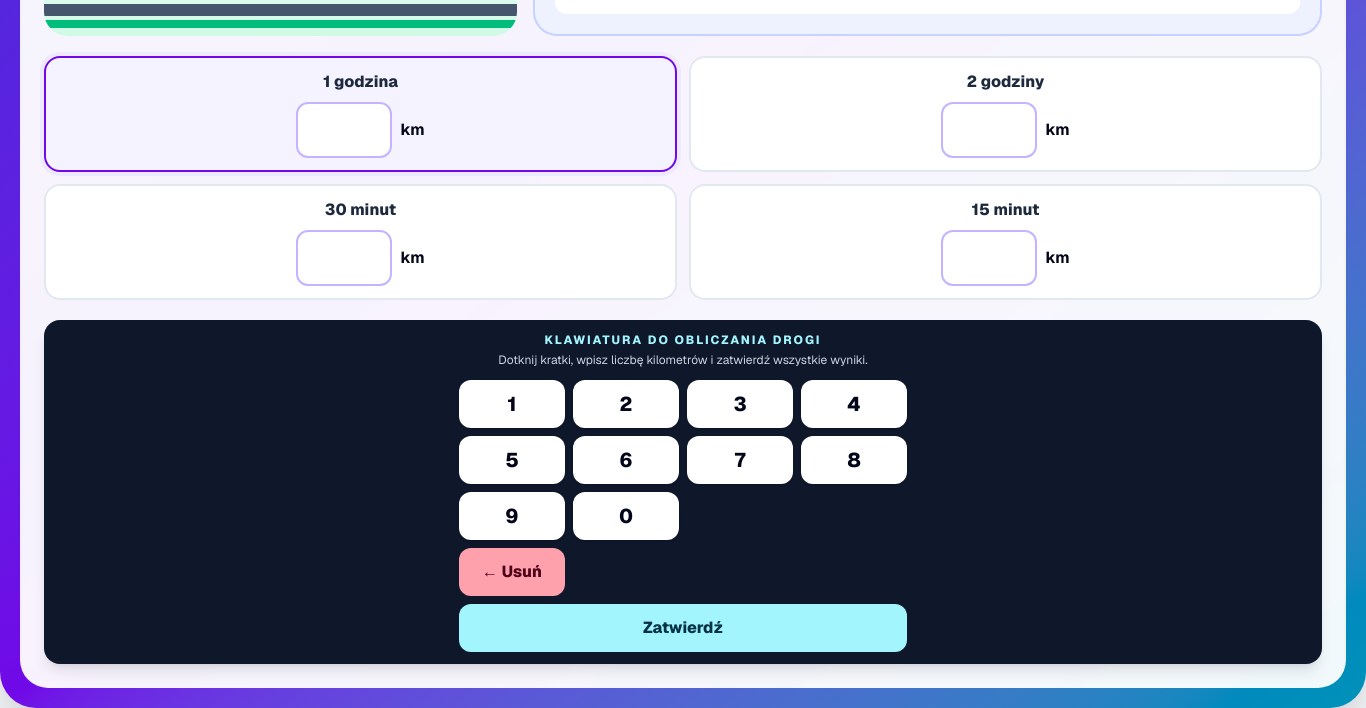
Scenario: Droga i prędkość — klasa VI › blokuje przejście, gdy nie wszystkie pola są uzupełnione
(page scrolled)
Click the button "Zatwierdź": coordinates (683, 628) [459, 604, 907, 652]
(page scrolled)
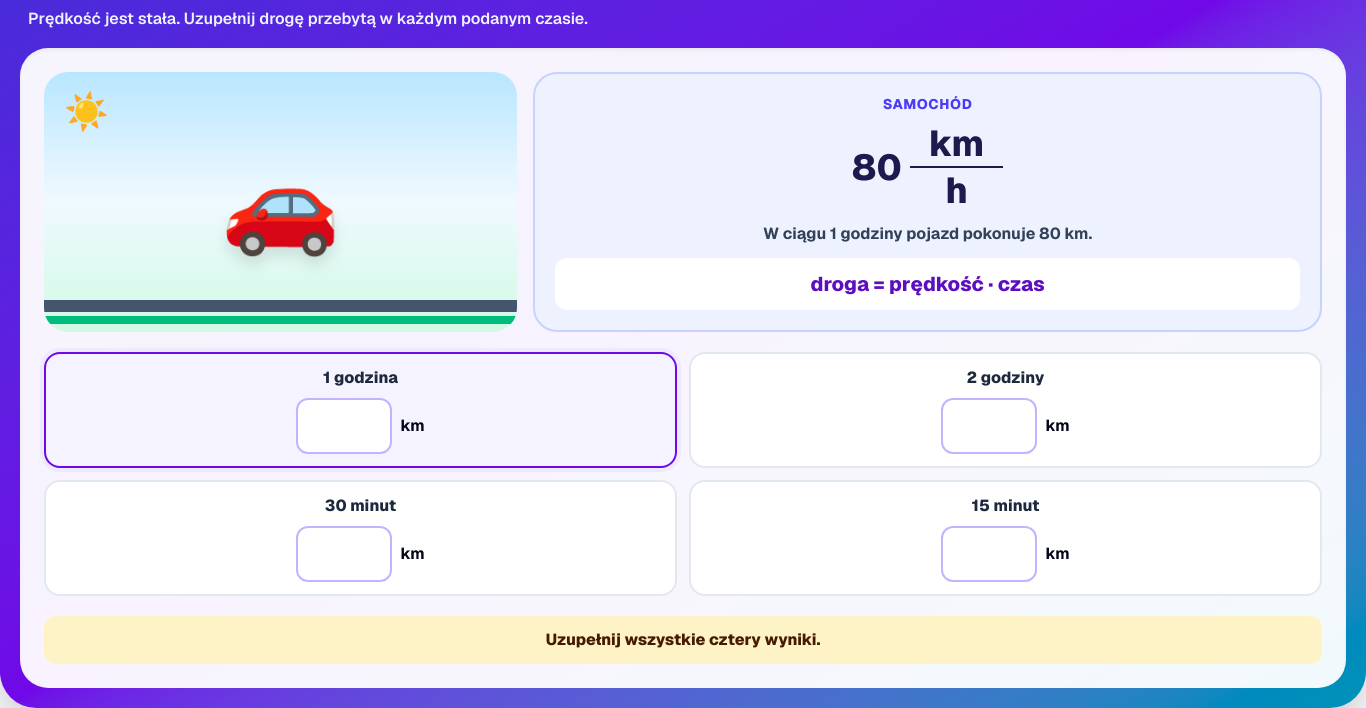
Check: the message shows "Uzupełnij wszystkie cztery wyniki", box [546, 629, 820, 650]
